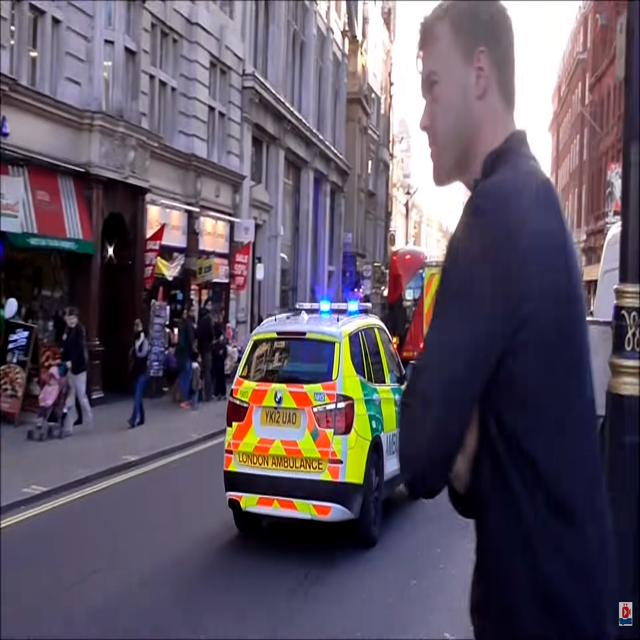emergency-vehicles: (219, 288, 432, 558)
